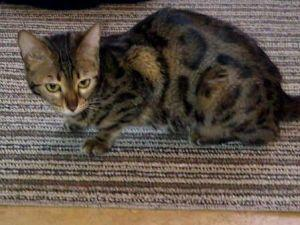bengal: (15, 21, 109, 119)
